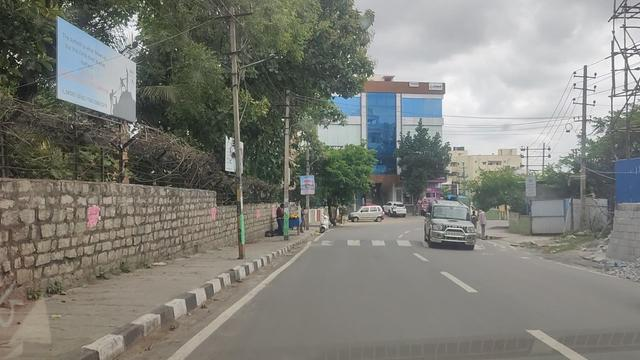LMV: (428, 200, 476, 249)
SpeedBump: (310, 237, 426, 248), (476, 240, 515, 254)
